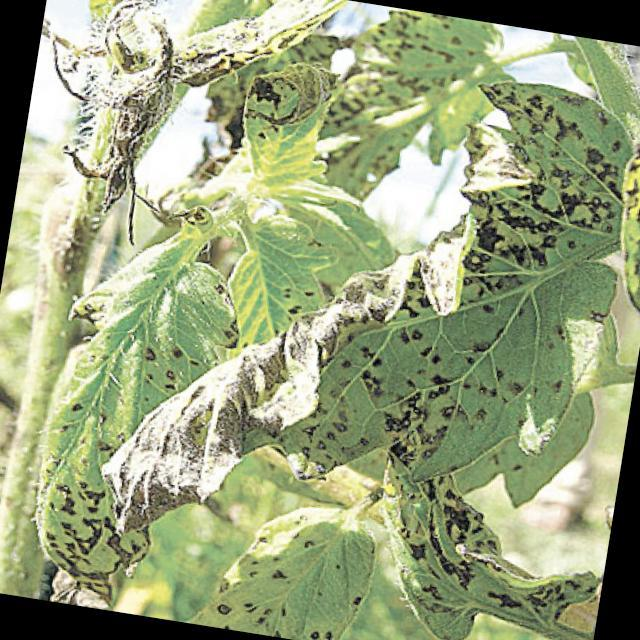Tomato Septoria spot leaf: (85, 35, 640, 608), (9, 213, 252, 618), (355, 432, 620, 640), (311, 0, 529, 221), (180, 484, 391, 640)
